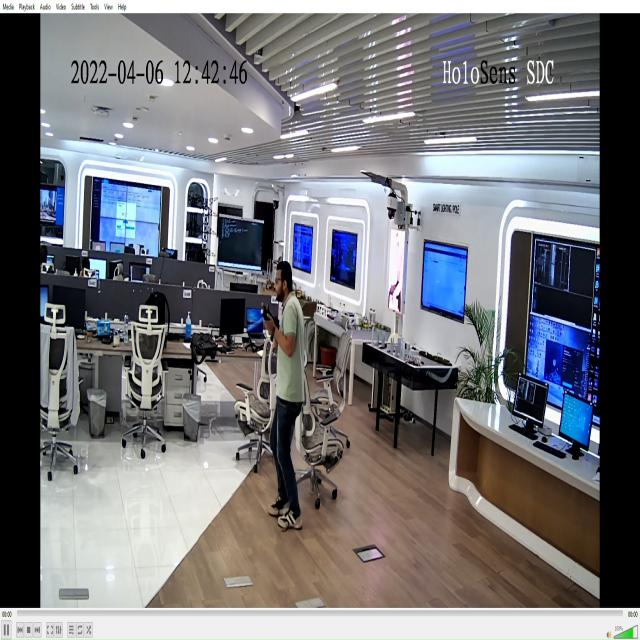long weapon: (256, 293, 281, 345)
